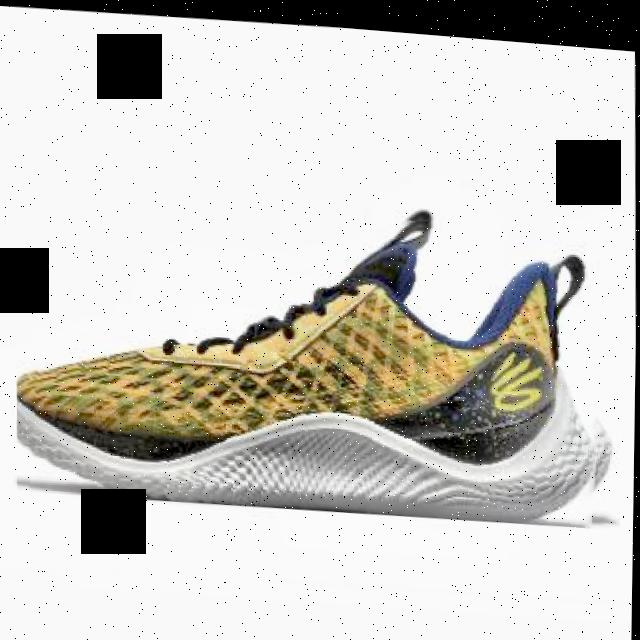shoe: (13, 178, 617, 529)
